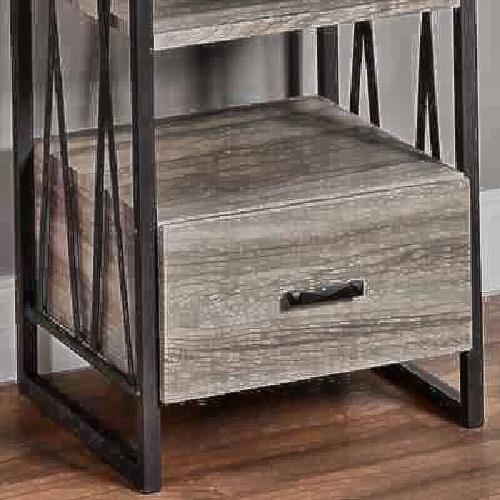table: (40, 114, 480, 413)
